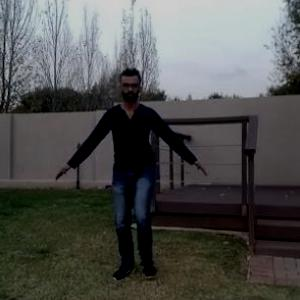land: (71, 74, 196, 289)
